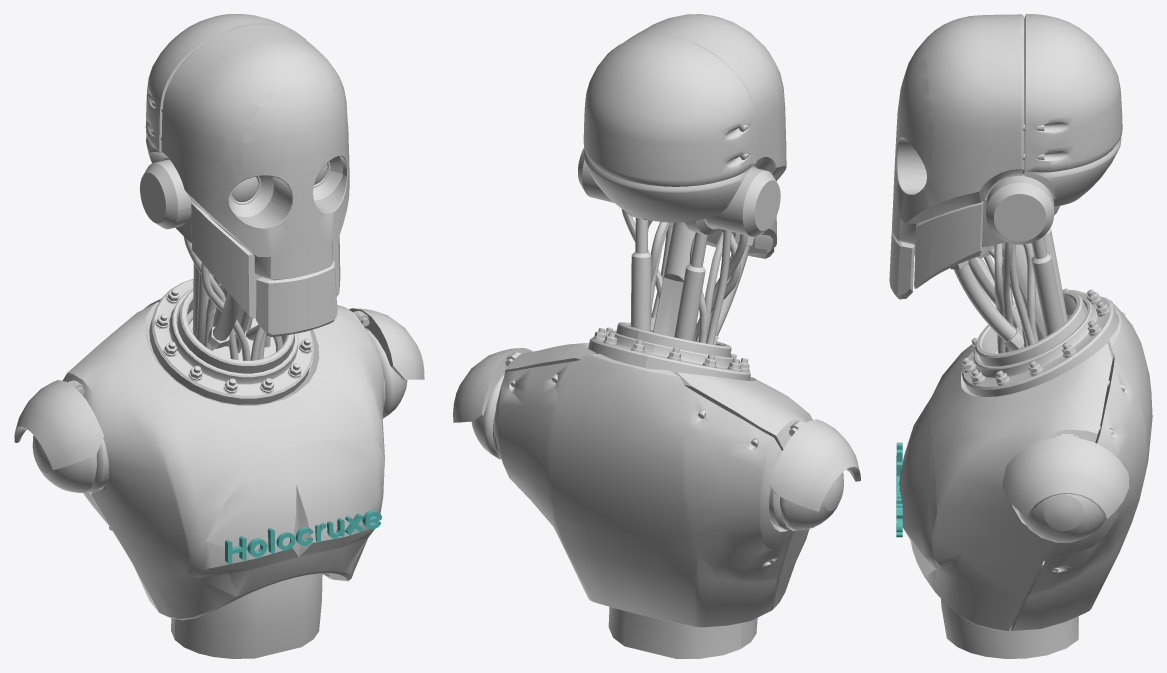
The model's file is holocruxe robot.glb.
3 views of the same model, side by side, from view 1: azimuth 30°, elevation 25°; view 2: azimuth 150°, elevation 25°; view 3: azimuth 270°, elevation 25° (orthographic).
Visible parts, largest first — view 1: Text.001; view 2: Text.001; view 3: Text.001.
Boxes of the visible parts, left/top/right/bottom form: Text.001: left=14, top=14, right=424, bottom=658; Text.001: left=453, top=14, right=860, bottom=658; Text.001: left=889, top=14, right=1152, bottom=658.
Bounding box in the file's own units: 1.33 × 2 × 0.7905.
